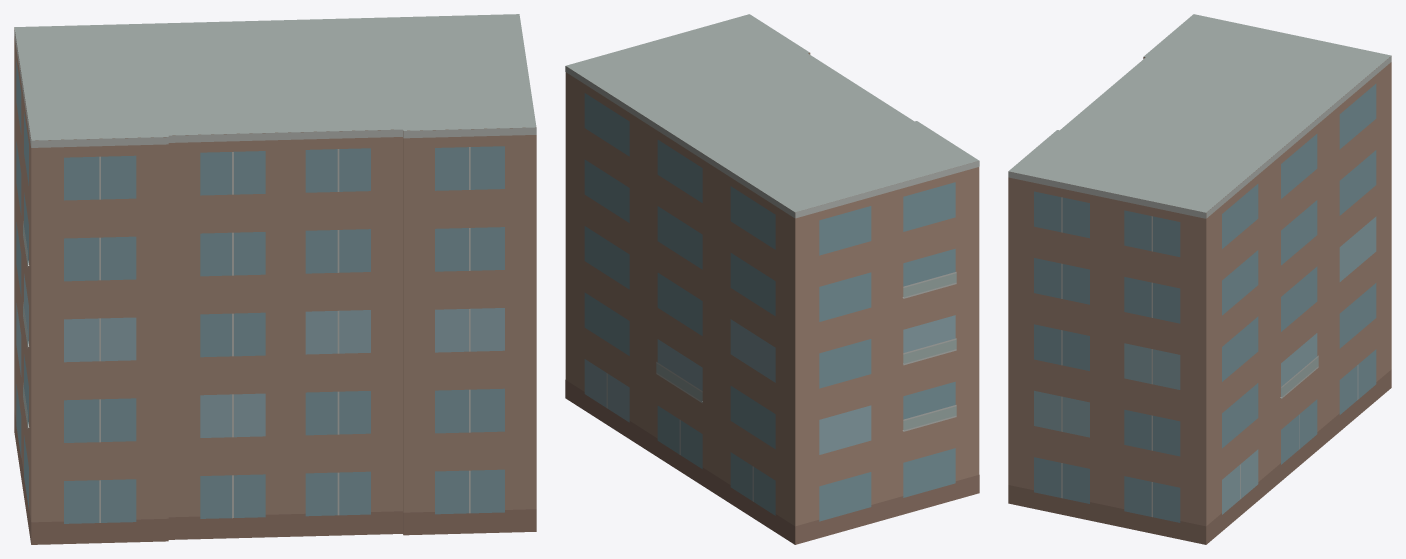
The model's file is survey-upis-32884365.glb.
The picture shows the model from 3 angles, left to right: view 1: azimuth 30°, elevation 25°; view 2: azimuth 150°, elevation 25°; view 3: azimuth 270°, elevation 25°; orthographic projection. The views are drawn at different scales.
Parts seen in each view (by area): view 1: survey-upis-32884365.tmp; view 2: survey-upis-32884365.tmp; view 3: survey-upis-32884365.tmp.
Boxes of the visible parts, x1,y1,x2,y2 form: survey-upis-32884365.tmp: (14,14,536,544); survey-upis-32884365.tmp: (565,14,979,544); survey-upis-32884365.tmp: (1008,14,1391,544).
Size of the model in its own units: 17.01 by 13.25 by 13.87.
